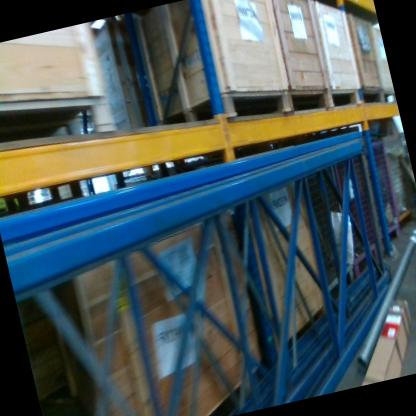stillage: (291, 163, 361, 299), (329, 151, 388, 276), (356, 139, 406, 245), (378, 130, 416, 230)
